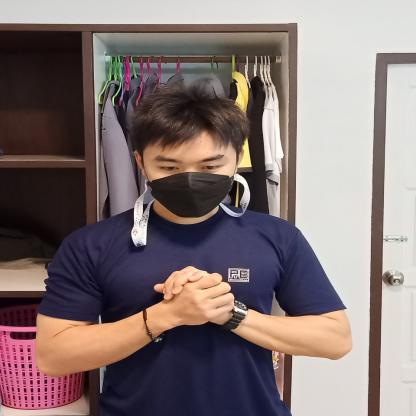Grieve: (108, 248, 306, 360)
